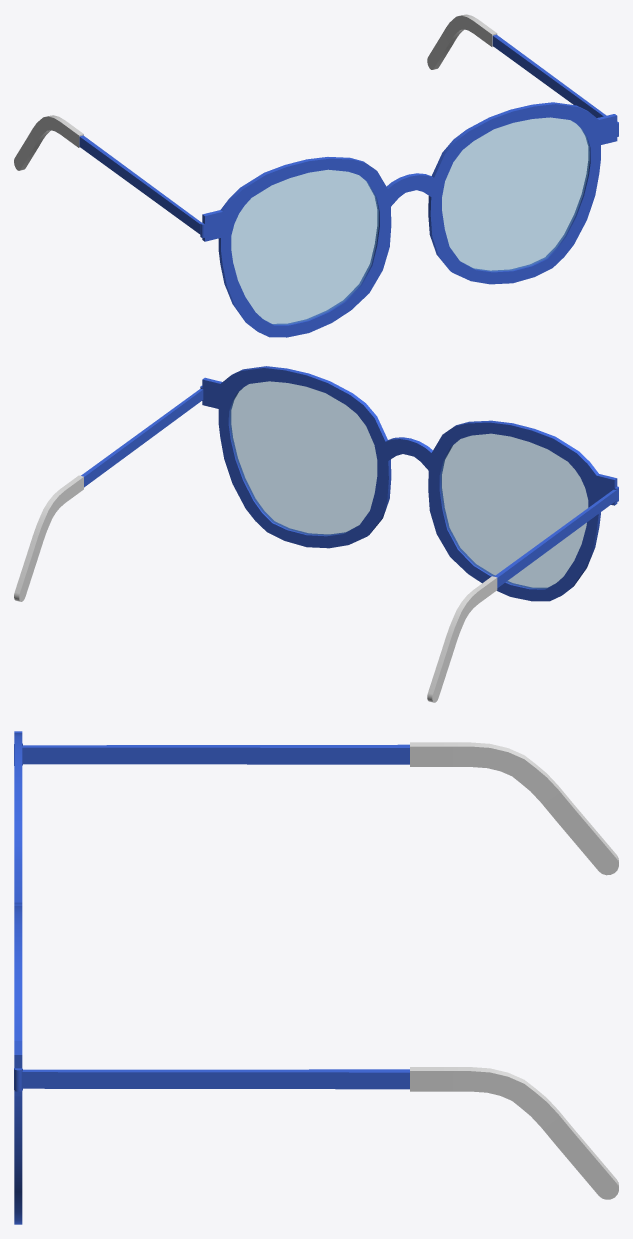
3 views of the same model, one above another, from view 1: azimuth 30°, elevation 25°; view 2: azimuth 150°, elevation 25°; view 3: azimuth 270°, elevation 25° (orthographic). The views are drawn at different scales.
Visible parts, largest first — view 1: Lens, Material.015, black; view 2: Lens, Material.015, black; view 3: Material.015, black.
Boxes of the visible parts, bbox=[...] form: Lens: bbox=[231, 117, 589, 324]; Material.015: bbox=[79, 34, 618, 337]; black: bbox=[14, 14, 497, 170]; Lens: bbox=[229, 381, 588, 588]; Material.015: bbox=[81, 366, 618, 601]; black: bbox=[14, 475, 497, 702]; Material.015: bbox=[14, 731, 409, 1224]; black: bbox=[410, 742, 618, 1199].
Size of the model in its own units: 2.08 by 0.8173 by 1.62.
